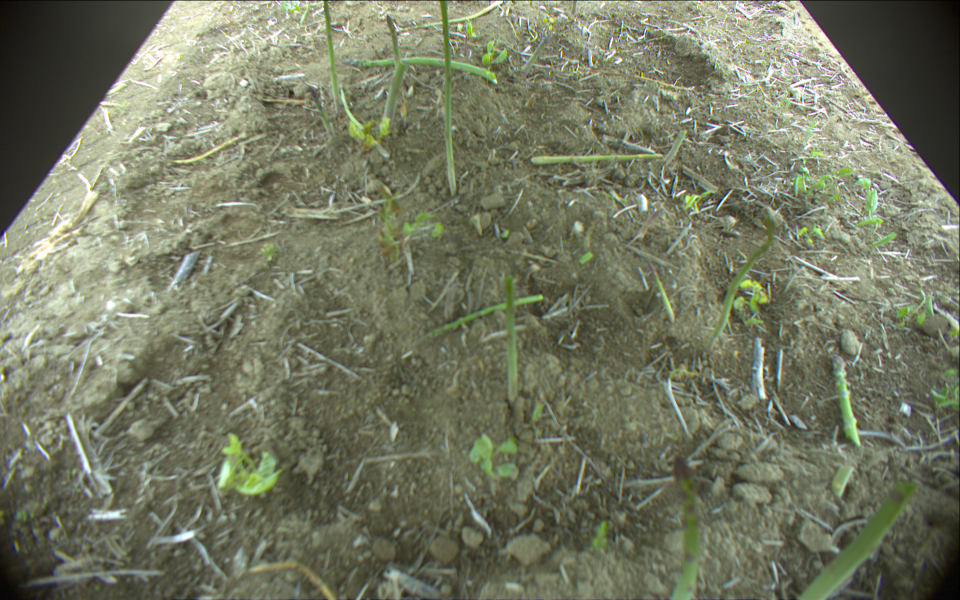aspa: (802, 480, 918, 600), (708, 212, 775, 354), (412, 293, 542, 347), (665, 462, 704, 600), (434, 1, 459, 195), (358, 57, 496, 84), (833, 355, 867, 448), (405, 1, 505, 32), (382, 13, 406, 129), (641, 248, 675, 321), (319, 1, 341, 111), (505, 272, 517, 406), (533, 154, 665, 166), (831, 469, 854, 496)
